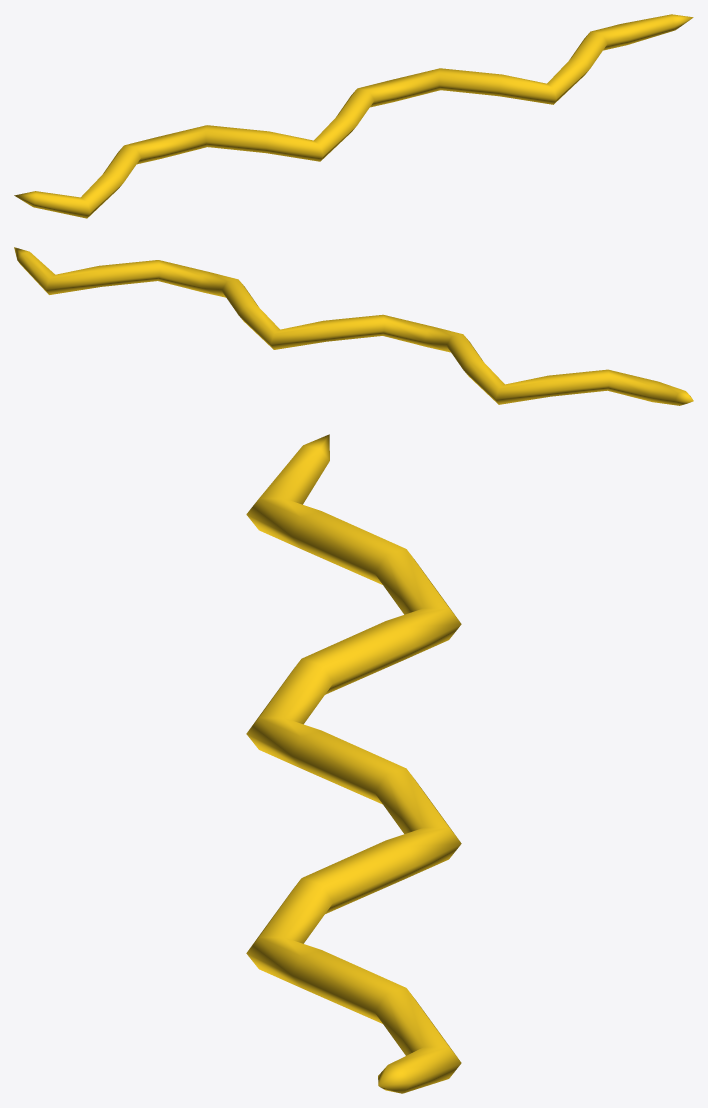
File: chorrito_aderezo.glb
The picture shows the model from 3 angles, top to bottom: view 1: azimuth 30°, elevation 25°; view 2: azimuth 150°, elevation 25°; view 3: azimuth 270°, elevation 25°; orthographic projection. The views are drawn at different scales.
Visible parts, largest first — view 1: pieza_chorrito; view 2: pieza_chorrito; view 3: pieza_chorrito.
Boxes of the visible parts, <box> form: pieza_chorrito: <box>14,14,693,218</box>; pieza_chorrito: <box>14,247,693,405</box>; pieza_chorrito: <box>246,434,461,1093</box>.
Size of the model in its own units: 0.1525 by 0.00567 by 0.0213.
